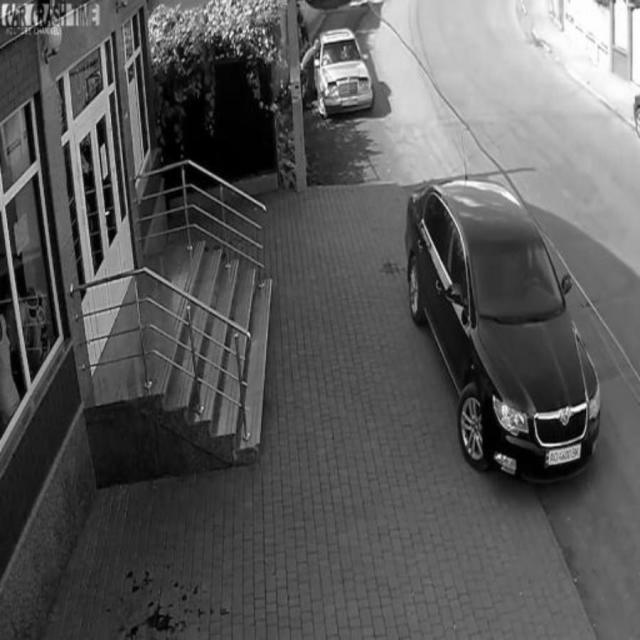vehicle: (405, 179, 597, 461), (313, 24, 365, 115)
